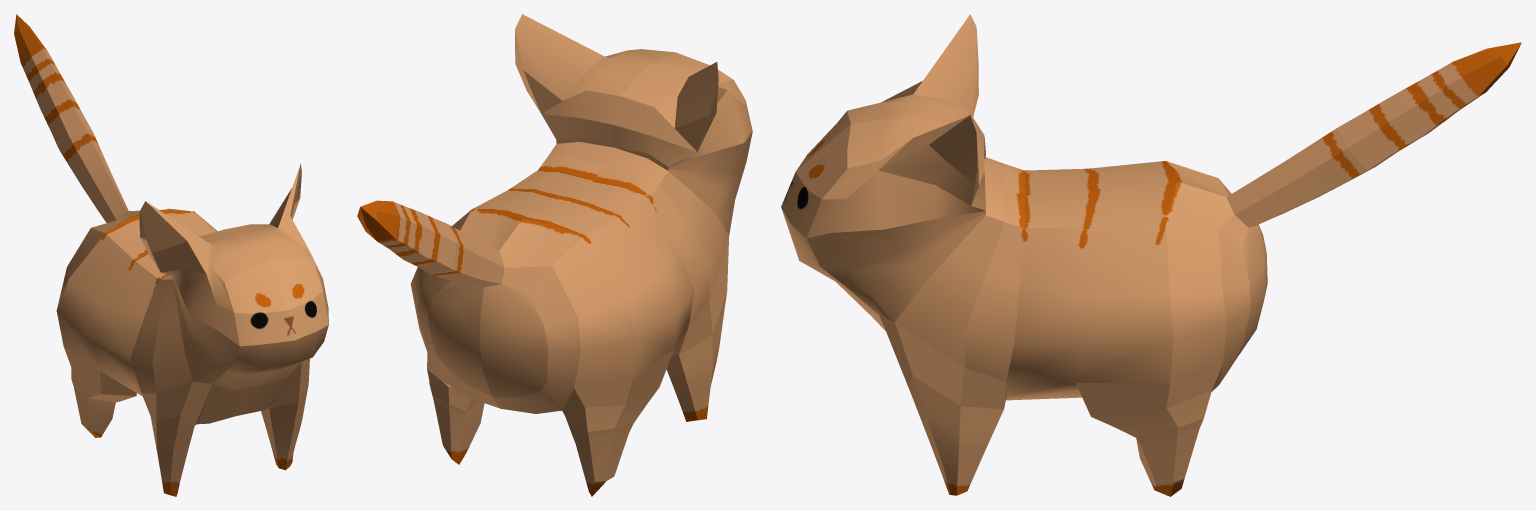
Rendered from cat2.fbx.
The picture shows the model from 3 angles, left to right: view 1: azimuth 30°, elevation 25°; view 2: azimuth 150°, elevation 25°; view 3: azimuth 270°, elevation 25°; orthographic projection. The views are drawn at different scales.
Parts seen in each view (by area): view 1: Cat:pCube136; view 2: Cat:pCube136; view 3: Cat:pCube136.
Part boxes in pixels (bbox=[...]): Cat:pCube136: bbox=[14, 14, 328, 496]; Cat:pCube136: bbox=[357, 14, 752, 496]; Cat:pCube136: bbox=[781, 14, 1521, 496].
Size of the model in its own units: 0.4266 by 0.7091 by 1.13.
